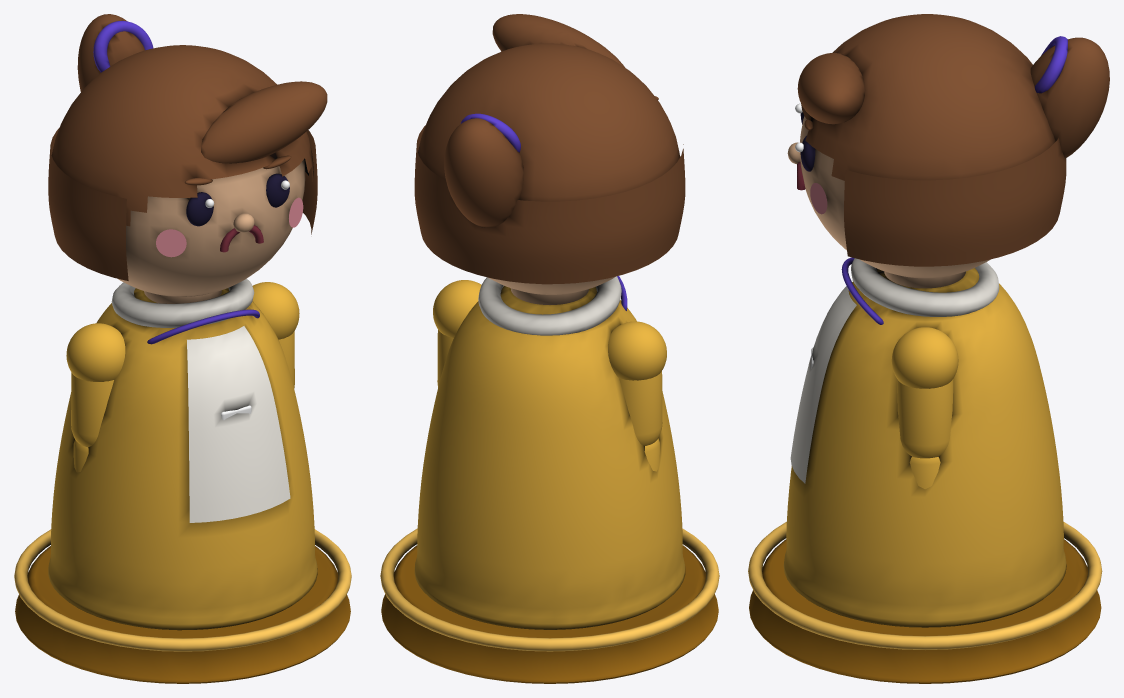
Rendered from writer.glb.
The picture shows the model from 3 angles, left to right: view 1: azimuth 30°, elevation 25°; view 2: azimuth 150°, elevation 25°; view 3: azimuth 270°, elevation 25°; orthographic projection. The views are drawn at different scales.
Parts seen in each view (by area): view 1: part_body.001, part_hair, part_base, part_shirt, part_head.001, part_locks, part_swoop, part_rim, part_collar, part_cap_R, part_upper_R, part_tail (+7 smaller); view 2: part_body.001, part_hair, part_locks, part_base, part_rim, part_tail, part_collar, part_cap_R, part_swoop, part_upper_R, part_cap_L, part_head.001 (+2 smaller); view 3: part_body.001, part_hair, part_locks, part_base, part_rim, part_tail, part_collar, part_swoop, part_upper_L, part_shirt, part_cap_L, part_head.001 (+4 smaller).
Part boxes in pixels (x1,y1,x2,y2): part_body.001: (48,288,317,630); part_hair: (51,45,313,226); part_base: (15,546,350,683); part_shirt: (187,326,290,522); part_head.001: (118,159,305,296); part_locks: (48,128,317,280); part_swoop: (201,81,327,163); part_rim: (14,529,351,651); part_collar: (111,278,254,327); part_cap_R: (66,323,125,381); part_upper_R: (71,372,113,447); part_tail: (77,14,144,91); part_body.001: (414,286,685,629); part_hair: (418,43,680,201); part_locks: (414,125,685,284); part_base: (381,545,718,683); part_rim: (380,528,719,651); part_tail: (444,118,523,227); part_collar: (478,276,621,335); part_cap_R: (608,321,666,380); part_swoop: (492,14,624,67); part_upper_R: (619,371,662,445); part_cap_L: (433,280,481,337); part_head.001: (488,276,615,294); part_body.001: (783,268,1066,627); part_hair: (801,14,1055,180); part_locks: (844,138,1066,266); part_base: (749,539,1101,683); part_rim: (748,522,1102,649); part_tail: (1030,37,1109,158); part_collar: (851,258,999,316); part_swoop: (797,53,865,124); part_upper_L: (897,379,953,458); part_shirt: (790,280,856,483); part_cap_L: (891,327,958,388); part_head.001: (800,116,990,278).
Size of the model in its own units: 0.656 by 1.19 by 0.6702.
